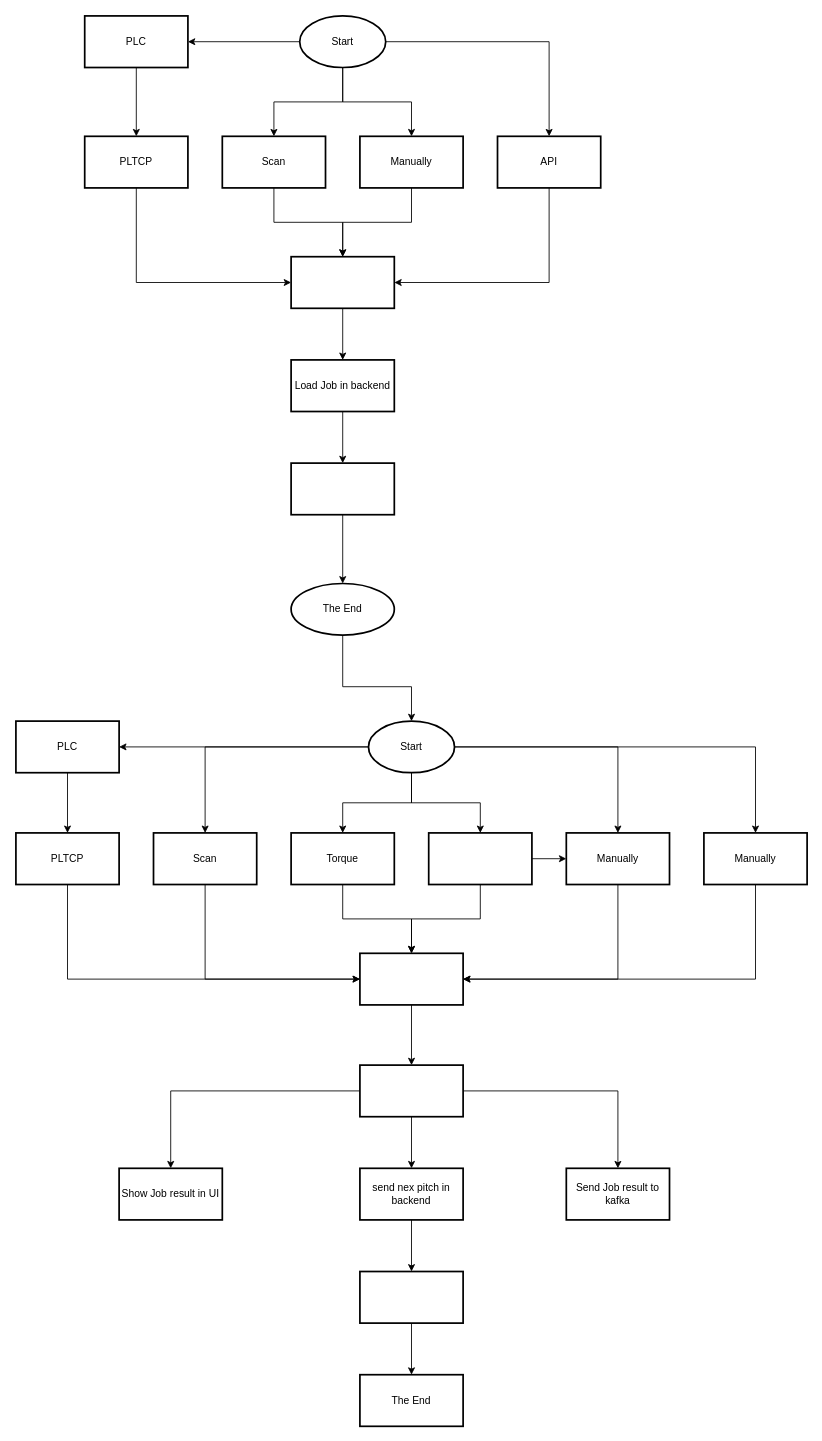
The diagram is 822 pixels wide and 1441 high, and some of its shapes have lost their labels. The shapes that lost their labels are listed below. From the top down, each one's centre as x and y in pixels, then its label:
At point 342,282: "Enter Station".
At point 342,488: "Show Job in UI".
At point 479,858: "Tangent USB".
At point 411,978: "Input task result".
At point 411,1090: "Validate Task result in backend".
At point 411,1297: "Out station".
